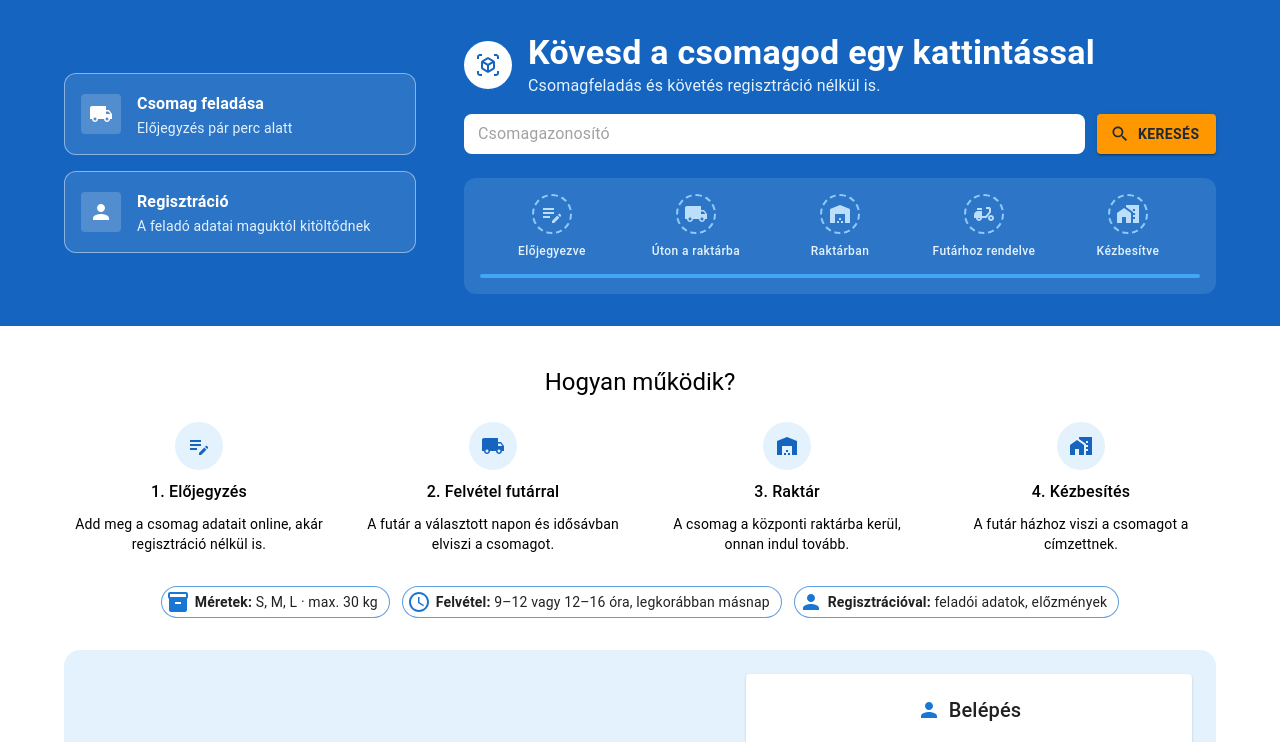
Test: Nyilvános követés › üres keresésnél nem hívja a szervert
The width and height of the screenshot is (1280, 742).
Click the button "Keresés" at (1157, 134), box [1097,114,1216,154]
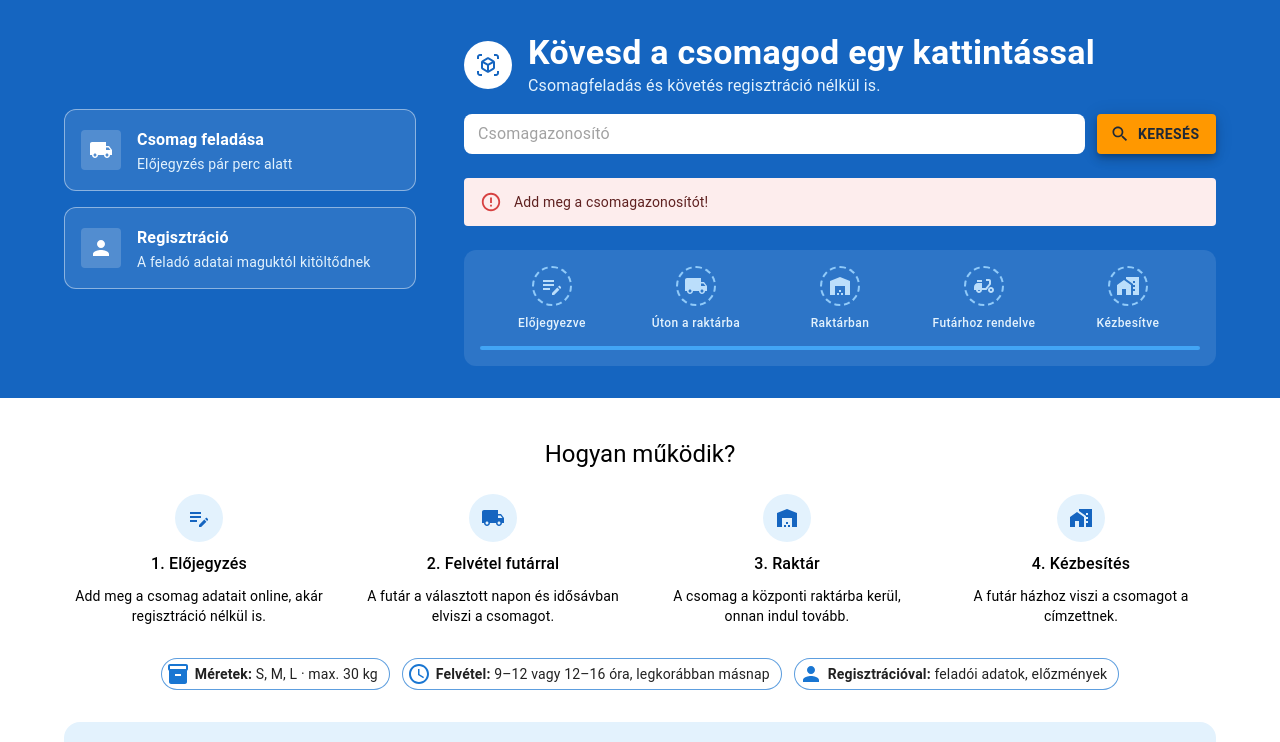
Expected: the text "Add meg a csomagazonosítót!" is shown, [514,194,708,210]
